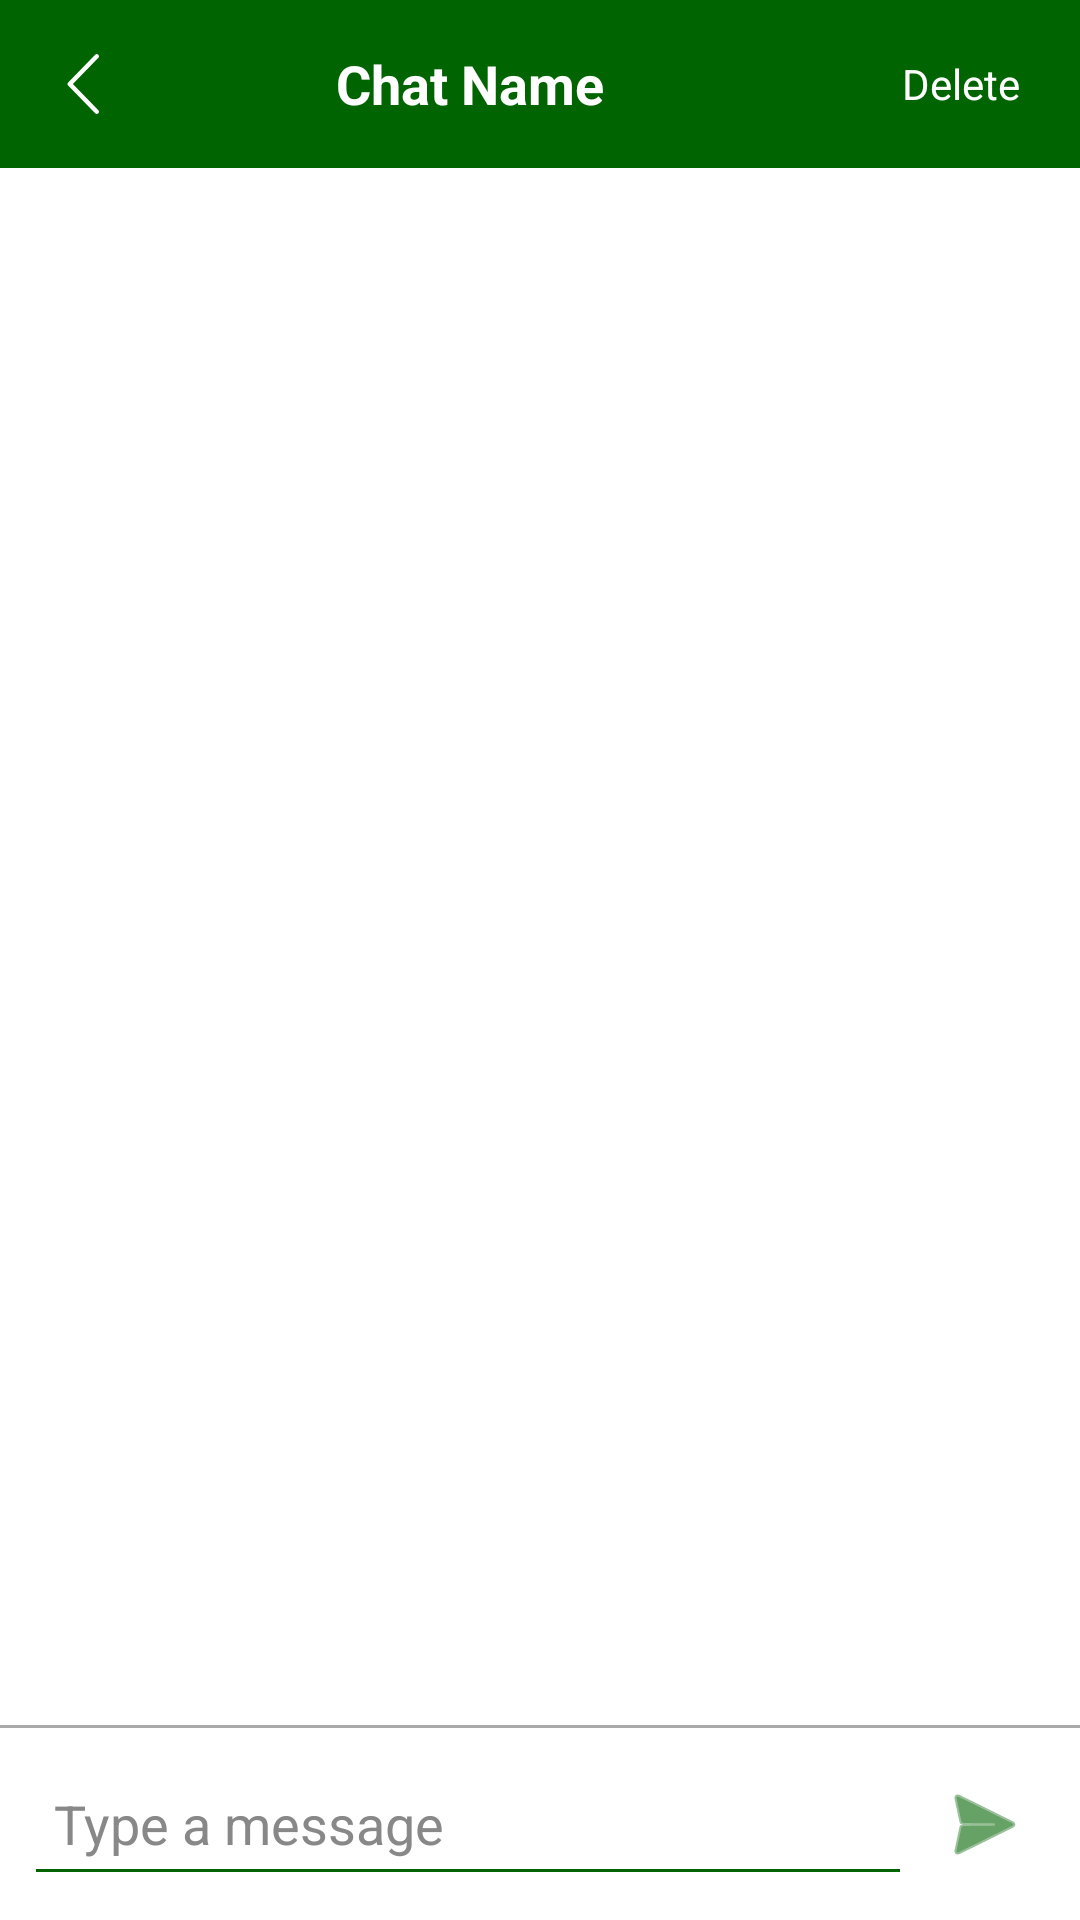

Locate icon controls on the screen. Image size 1080 × 1920, boxes as (x1, y1, x2, y2).
Back: (67, 54, 99, 114)
Send: (954, 1794, 1016, 1855)
